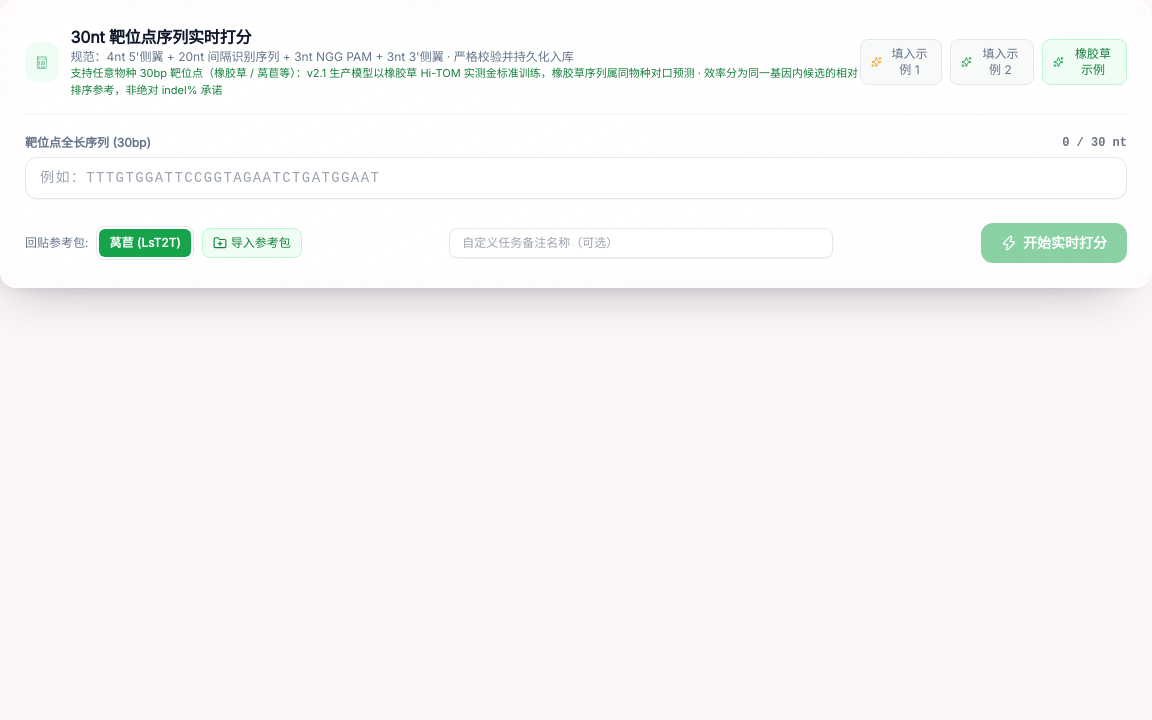
Test case: SingleScoringCard › marks MFE self-folding risk and ViennaRNA fallback correctly
Click the button "填入示例 1". click: [901, 62]
box: x1=860 y1=38 x2=942 y2=84
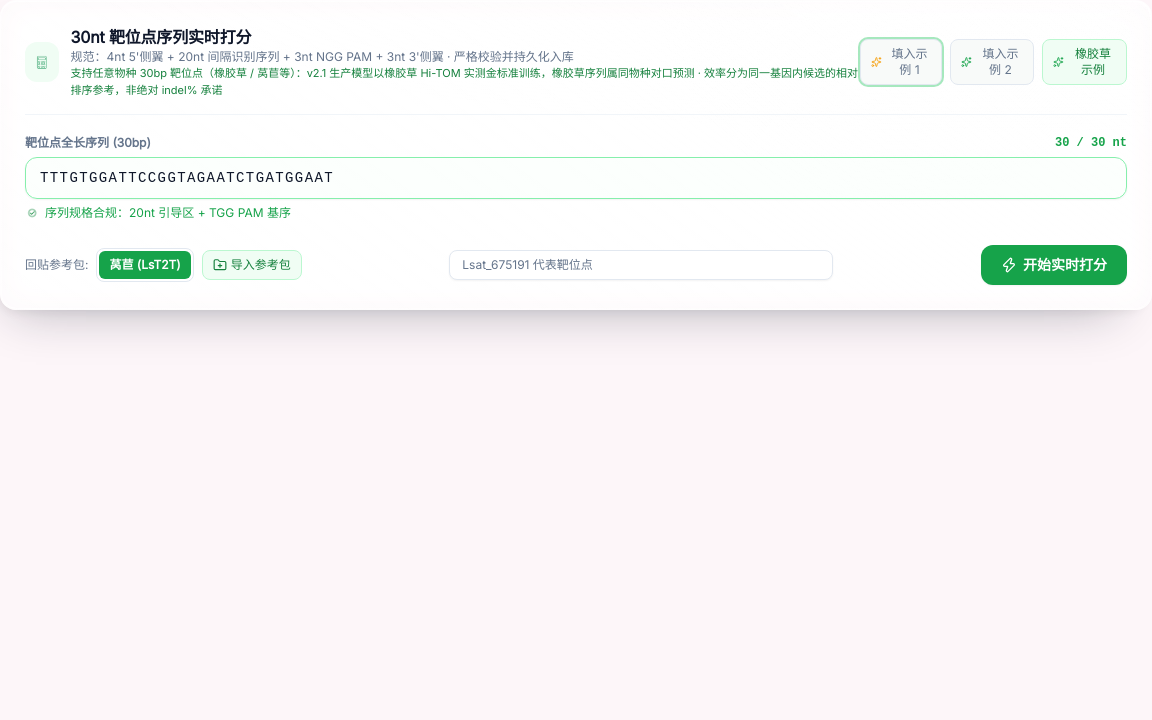
Click the button "开始实时打分". click: [1054, 265]
box: x1=981 y1=245 x2=1127 y2=285
(page scrolled)
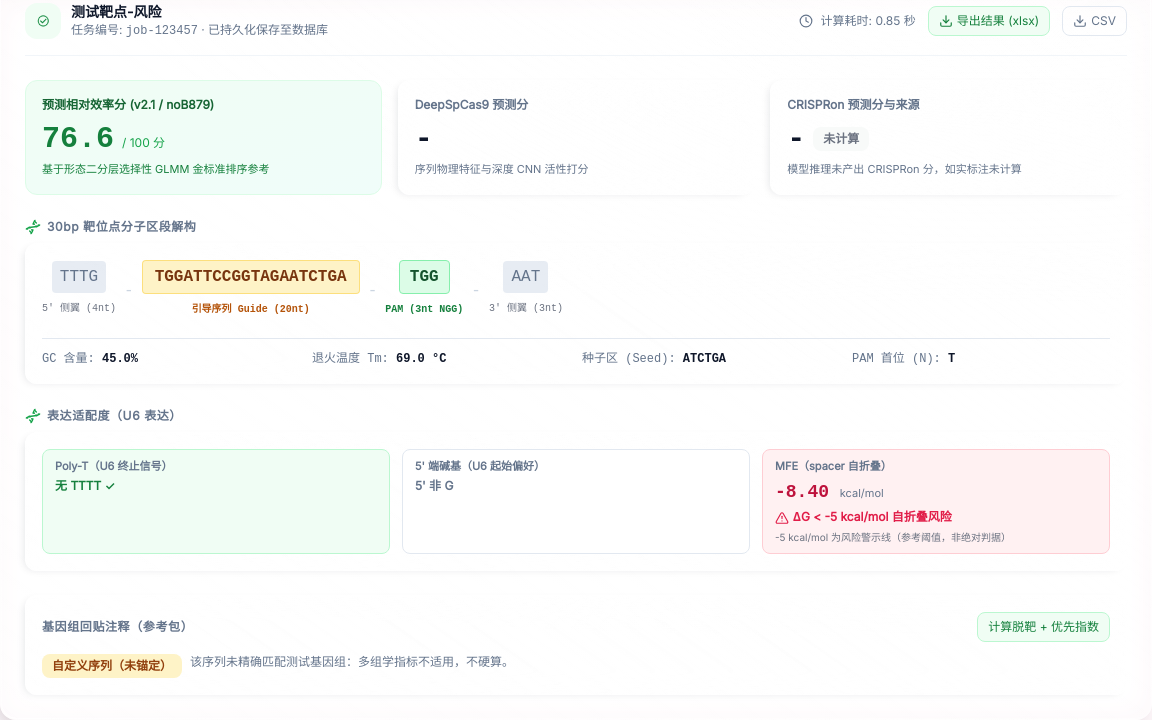
Check: the text "无 TTTT ✓" is shown, box x1=55 y1=478 x2=115 y2=492
Check: the text "5' 非 G" is shown, box x1=415 y1=478 x2=453 y2=492
Check: the text "-8.40 kcal/mol" is shown, box x1=775 y1=482 x2=884 y2=502
